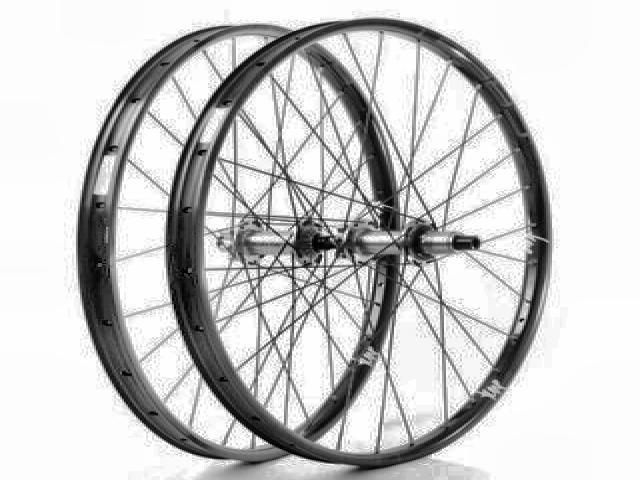wheel: (160, 1, 559, 470), (69, 21, 413, 465)
